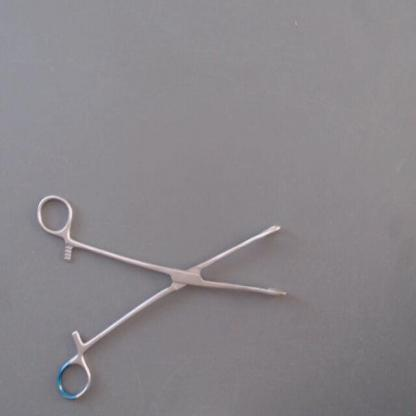Sponge Forceps: (31, 184, 299, 406)
